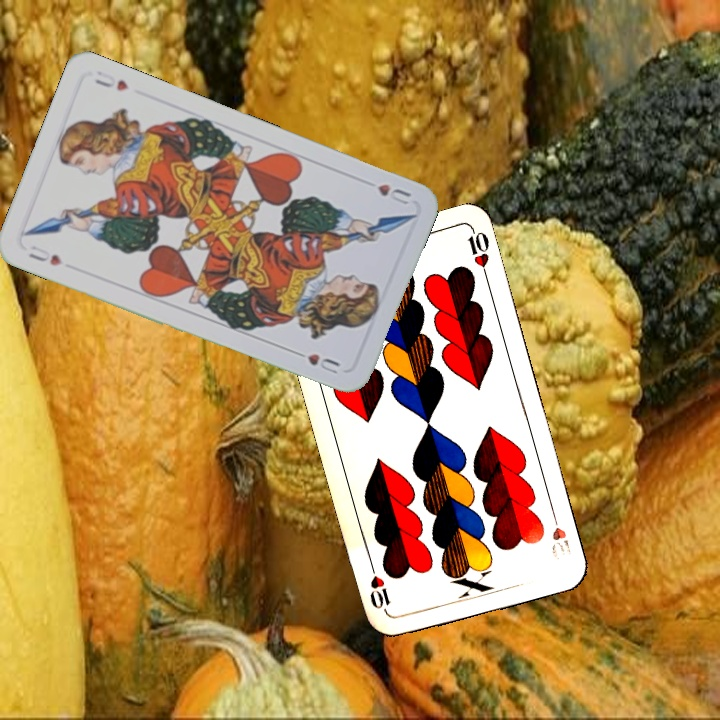H10: (547, 506, 575, 560)
HU: (374, 179, 415, 208), (24, 241, 64, 269)
